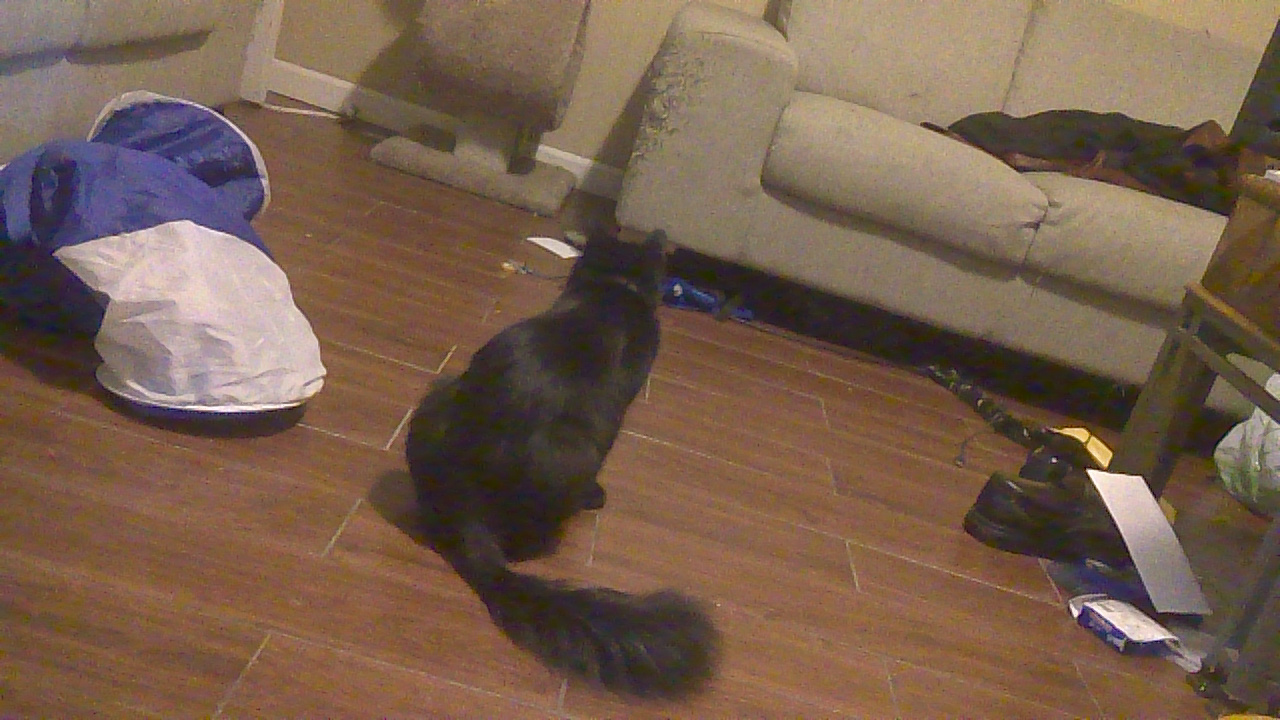cat: (401, 216, 722, 700)
